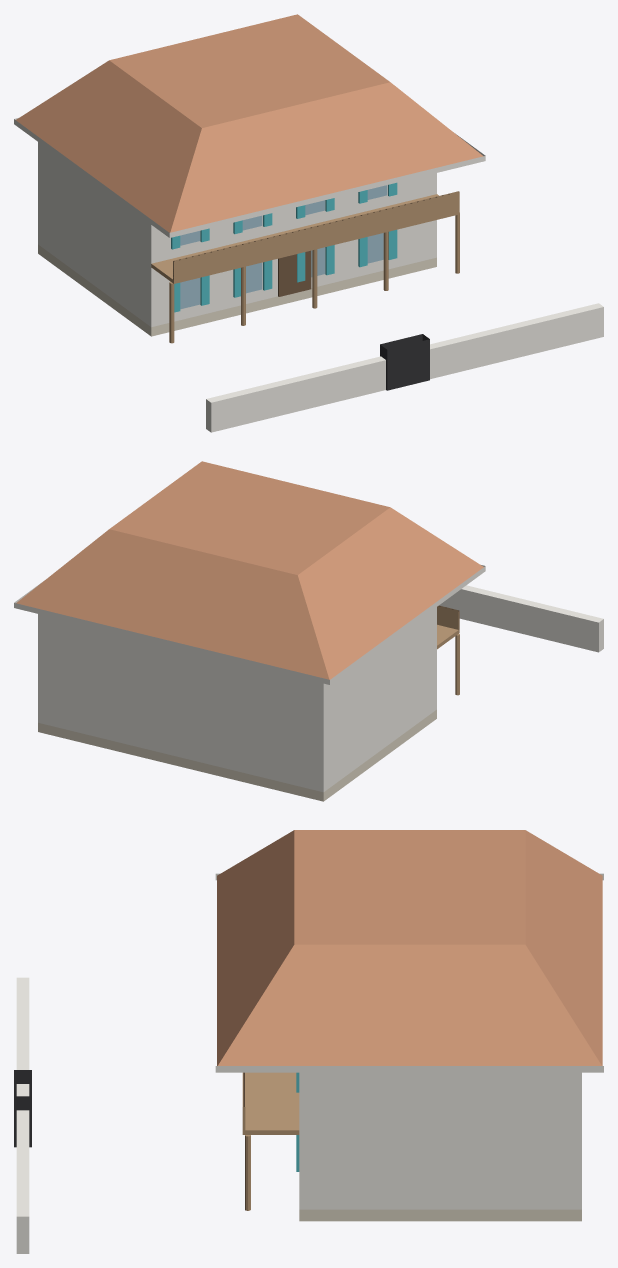
The model's file is E3-7_pousada.fbx.
3 views of the same model, one above another, from view 1: azimuth 30°, elevation 25°; view 2: azimuth 150°, elevation 25°; view 3: azimuth 270°, elevation 25° (orthographic). The views are drawn at different scales.
Parts seen in each view (by area): view 1: E3-7_pousada; view 2: E3-7_pousada; view 3: E3-7_pousada.
Part boxes in pixels (left/top/right/bottom): E3-7_pousada: left=14, top=14, right=603, bottom=432; E3-7_pousada: left=14, top=461, right=603, bottom=801; E3-7_pousada: left=14, top=830, right=603, bottom=1253.
Size of the model in its own units: 22 by 10.6 by 22.95.
